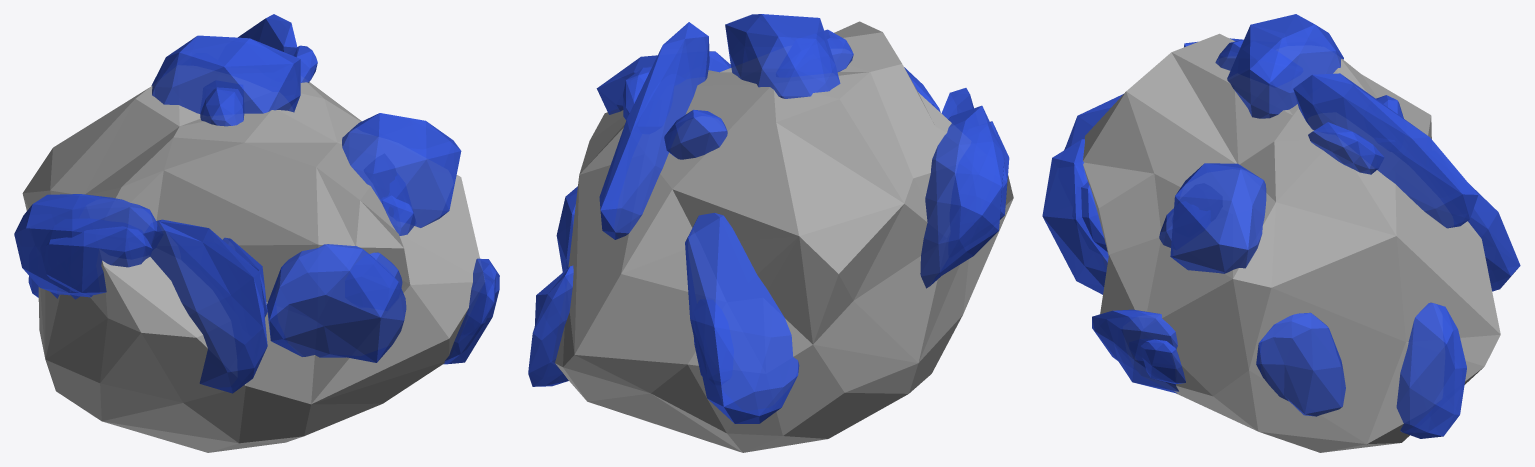
File: WindstoneOre.fbx
3 views of the same model, side by side, from view 1: azimuth 30°, elevation 25°; view 2: azimuth 150°, elevation 25°; view 3: azimuth 270°, elevation 25° (orthographic). The views are drawn at different scales.
Visible parts, largest first — view 1: Ore.004; view 2: Ore.004; view 3: Ore.004.
Boxes of the visible parts, x1,y1,x2,y2 form: Ore.004: (14, 14, 499, 452); Ore.004: (528, 14, 1013, 452); Ore.004: (1042, 14, 1520, 452).
Bounding box in the file's own units: 394 × 359 × 408.
